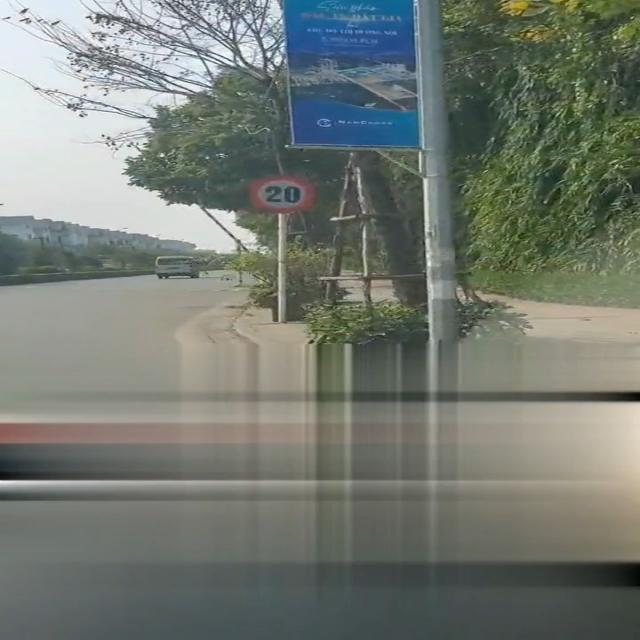127-toc-do-toi-da-20: (246, 174, 317, 213)
